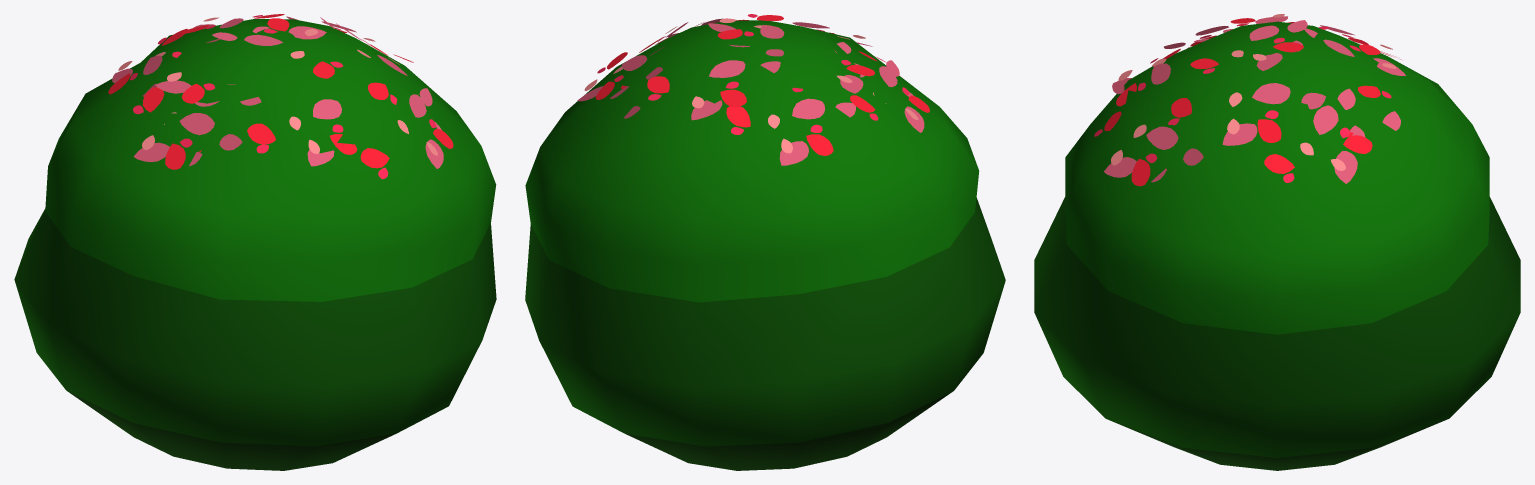
File: Pul1-1.fbx
3 renders of one model, left to right at view 1: azimuth 30°, elevation 25°; view 2: azimuth 150°, elevation 25°; view 3: azimuth 270°, elevation 25°, orthographic.
Visible parts, largest first — view 1: Pul1-1; view 2: Pul1-1; view 3: Pul1-1.
Part boxes in pixels (<box>): Pul1-1: <box>14,14,496,470</box>; Pul1-1: <box>525,14,1005,470</box>; Pul1-1: <box>1034,14,1520,470</box>.
Size of the model in its own units: 0.5902 by 0.5395 by 0.5907.
